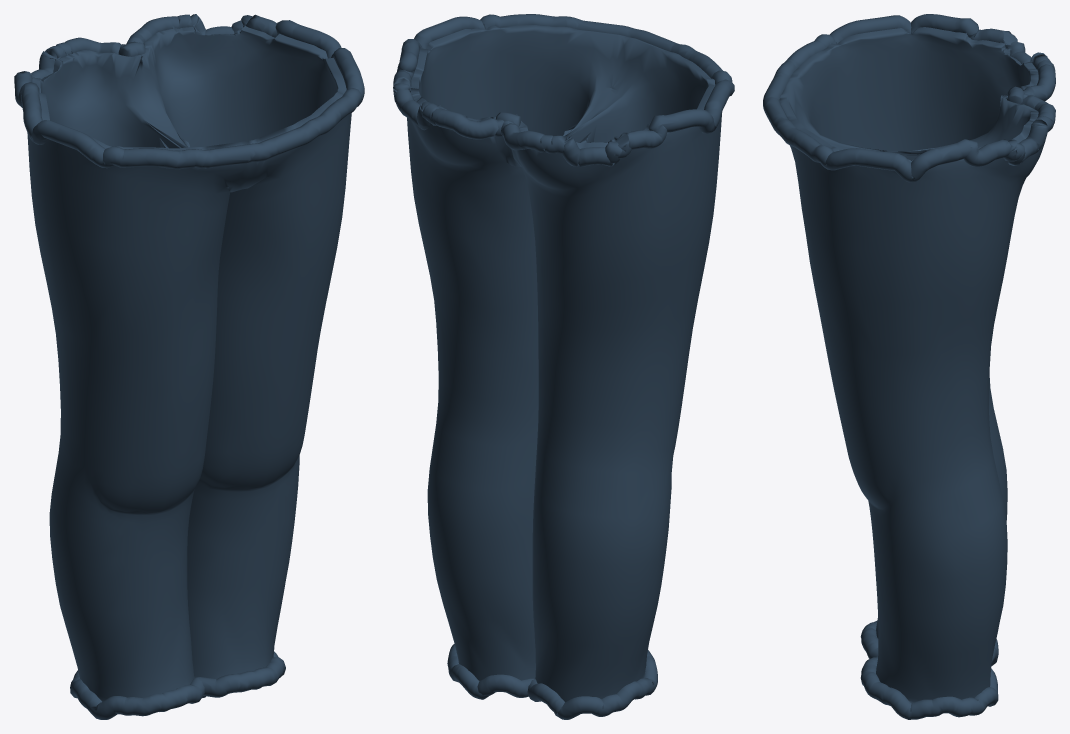
File: 4HT-masculino.glb
The picture shows the model from 3 angles, left to right: view 1: azimuth 30°, elevation 25°; view 2: azimuth 150°, elevation 25°; view 3: azimuth 270°, elevation 25°; orthographic projection. The views are drawn at different scales.
Visible parts, largest first — view 1: fitted-shell, bound-edge (×3); view 2: fitted-shell, bound-edge (×3); view 3: fitted-shell, bound-edge (×3).
Boxes of the visible parts, bbox=[...] form: fitted-shell: bbox=[27, 26, 351, 701]; bound-edge (×3): bbox=[14, 14, 364, 719]; fitted-shell: bbox=[407, 25, 722, 702]; bound-edge (×3): bbox=[393, 14, 734, 719]; fitted-shell: bbox=[779, 27, 1045, 702]; bound-edge (×3): bbox=[763, 14, 1055, 719].
Bounding box in the file's own units: 0.0257 × 0.0492 × 0.0215.
